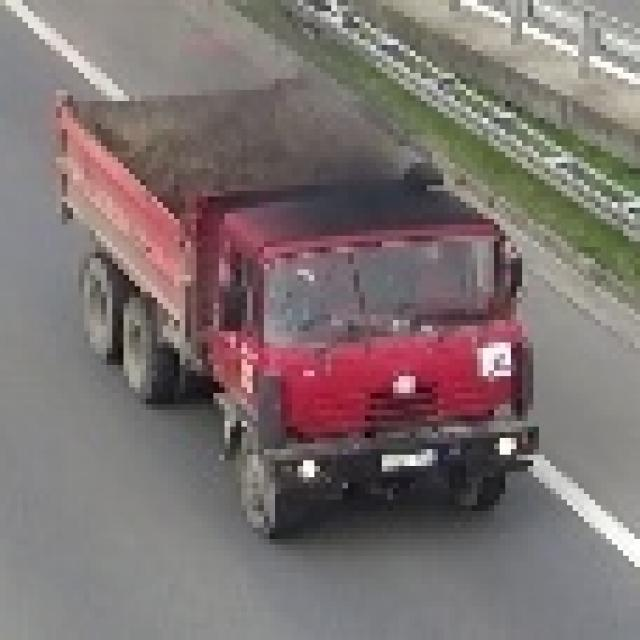truck: (45, 73, 539, 528)
